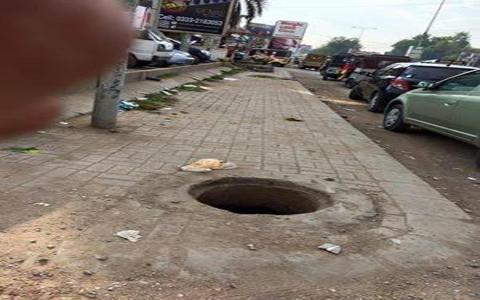open manhole: (159, 142, 340, 227)
